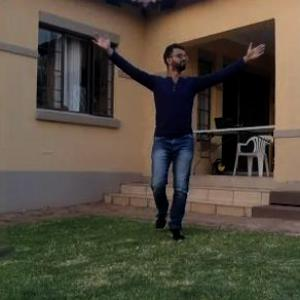takeoff: (77, 24, 266, 230)
